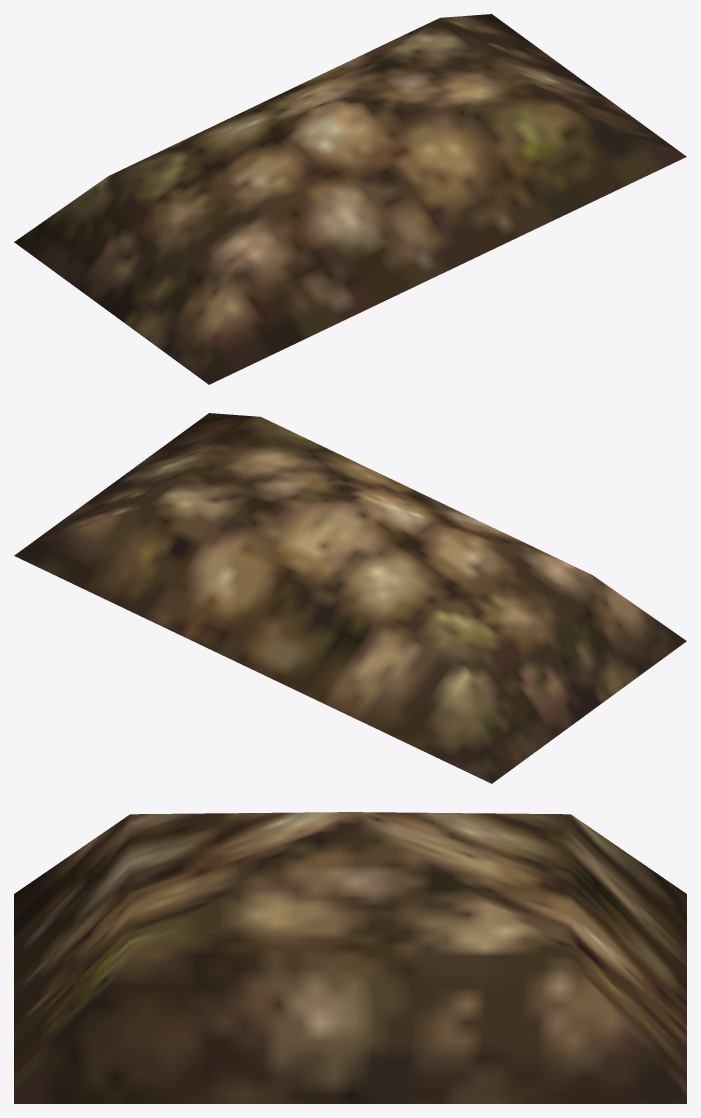
Rendered from OZ_20_wv_grain04A.glb.
3 renders of one model, top to bottom at view 1: azimuth 30°, elevation 25°; view 2: azimuth 150°, elevation 25°; view 3: azimuth 270°, elevation 25°, orthographic. The views are drawn at different scales.
Parts seen in each view (by area): view 1: OM_20_wv_grain04A; view 2: OM_20_wv_grain04A; view 3: OM_20_wv_grain04A.
Boxes of the visible parts, x1,y1,x2,y2 form: OM_20_wv_grain04A: (14,14,686,384); OM_20_wv_grain04A: (14,413,686,783); OM_20_wv_grain04A: (14,812,686,1103).
Size of the model in its own units: 0.5261 by 0.1639 by 0.372.
Materials: 1 (1 with a texture image).
